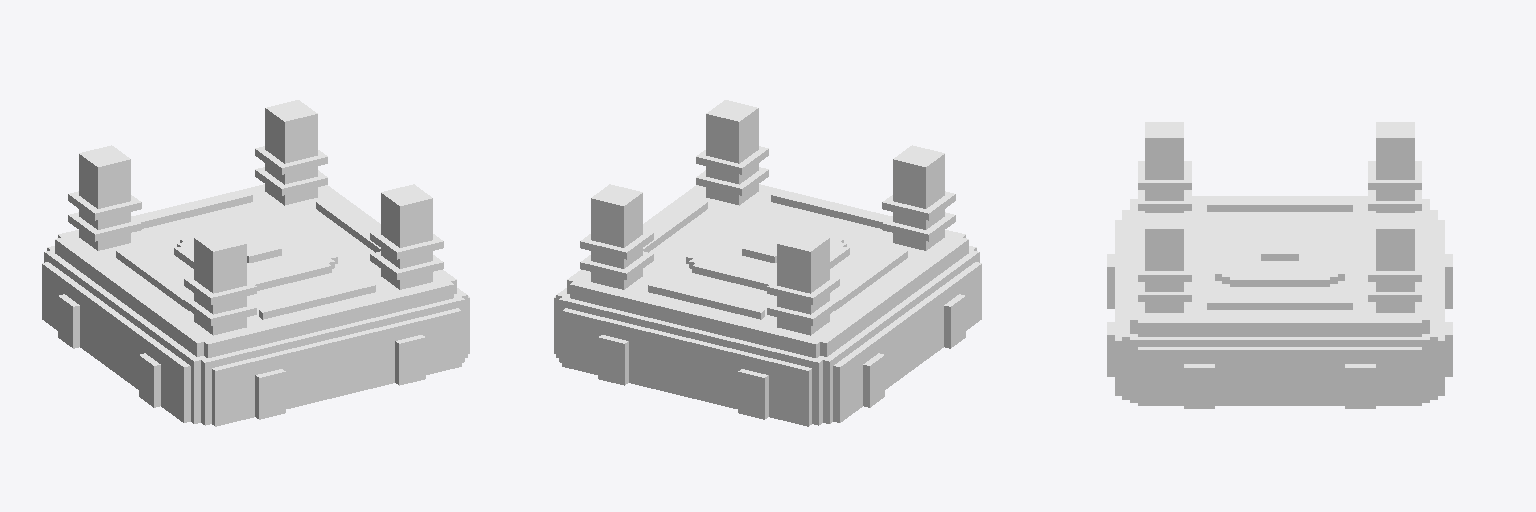
The model's file is PartBuilding.obj.
3 renders of one model, left to right at view 1: azimuth 30°, elevation 25°; view 2: azimuth 150°, elevation 25°; view 3: azimuth 270°, elevation 25°, orthographic.
Bounding box in the file's own units: 45 × 23 × 45.